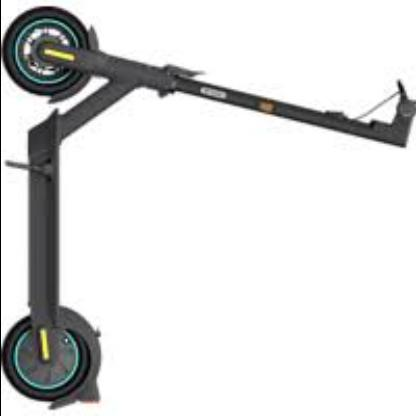bike: (4, 14, 415, 411)
